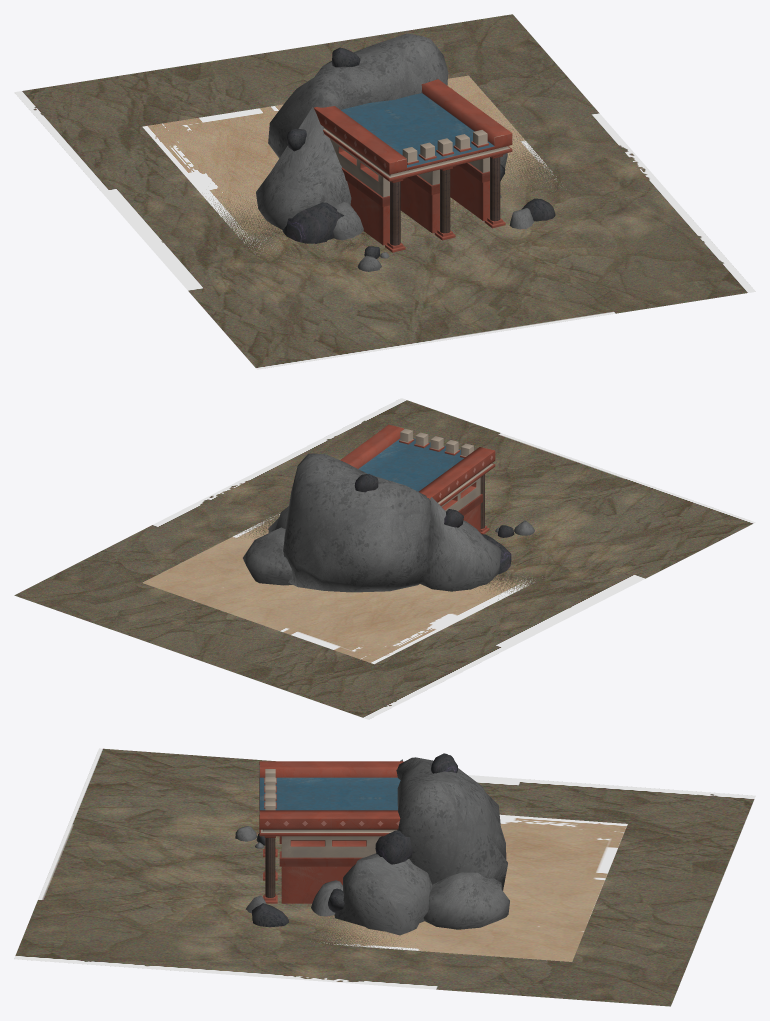
File: ASSETMODEL_MINA (1).fbx
3 views of the same model, one above another, from view 1: azimuth 30°, elevation 25°; view 2: azimuth 150°, elevation 25°; view 3: azimuth 270°, elevation 25° (orthographic). The views are drawn at different scales.
Parts seen in each view (by area): view 1: Plane.006, Plane.008, Plane.001, Cube.023, Cylinder.003, Plane.013, Cylinder.007, Cube.022, Cylinder.002, Plane.009; view 2: Plane.006, Plane.001, Cube.023, Plane.008, Cylinder.003, Cylinder.004, Cube.022; view 3: Plane.006, Plane.001, Plane.008, Cube.023, Cylinder.001, Cylinder.004, Cylinder.005, Plane.013, Plane.009, Cylinder.011, Cylinder, Cube.022.
Boxes of the visible parts, x1,y1,x2,y2 form: Plane.006: (14,14,755,369); Plane.008: (314,79,512,245); Plane.001: (142,75,556,261); Cube.023: (268,33,448,158); Cylinder.003: (256,107,351,229); Plane.013: (385,153,505,252); Cylinder.007: (282,202,344,243); Cube.022: (402,130,488,164); Cylinder.002: (333,202,363,240); Plane.009: (341,162,489,206); Plane.006: (14,398,755,719); Plane.001: (142,514,534,664); Cube.023: (283,453,431,592); Plane.008: (340,424,495,532); Cylinder.003: (420,497,501,591); Cylinder.004: (243,527,292,585); Cube.022: (399,428,473,457); Plane.006: (14,748,755,1006); Plane.001: (320,814,627,961); Plane.008: (259,761,403,903); Cube.023: (396,757,507,890); Cylinder.001: (334,853,432,935); Cylinder.004: (423,872,509,929); Cylinder.005: (375,830,412,864); Plane.013: (263,836,277,903); Plane.009: (279,851,362,866); Cylinder.011: (252,903,288,927); Cylinder: (311,880,342,916); Cube.022: (264,769,276,810).
Bounding box in the file's own units: 3881 × 973 × 4713.
